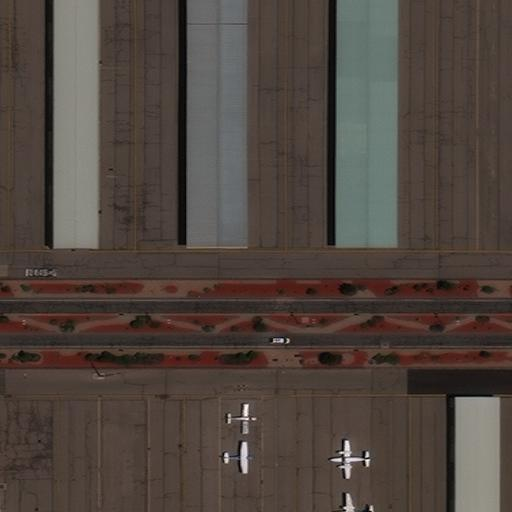Small Civil Transport: (327, 440, 372, 478), (220, 441, 255, 473), (224, 403, 258, 433), (330, 493, 376, 511)
